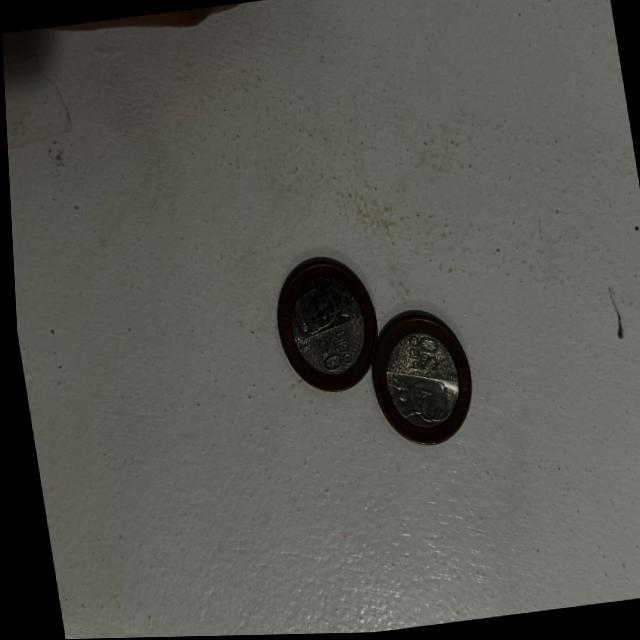20_New_Front: (394, 329, 439, 381), (306, 328, 351, 374)
